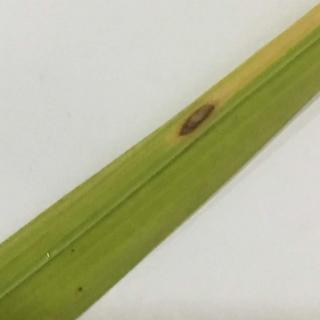Blast: (172, 94, 226, 172)
